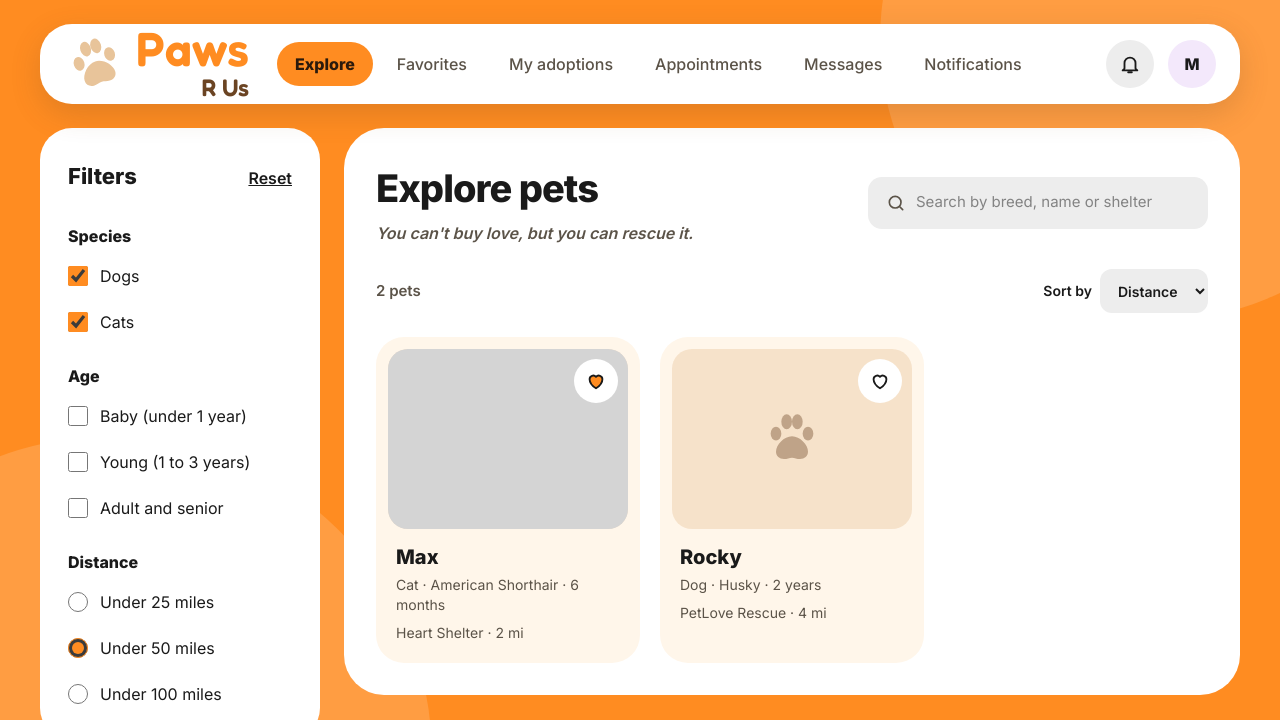
it: App routing › searches by name, breed or shelter
Type "husky" into the search field named "search pets" at (1053, 203), box [916,191,1190,214]
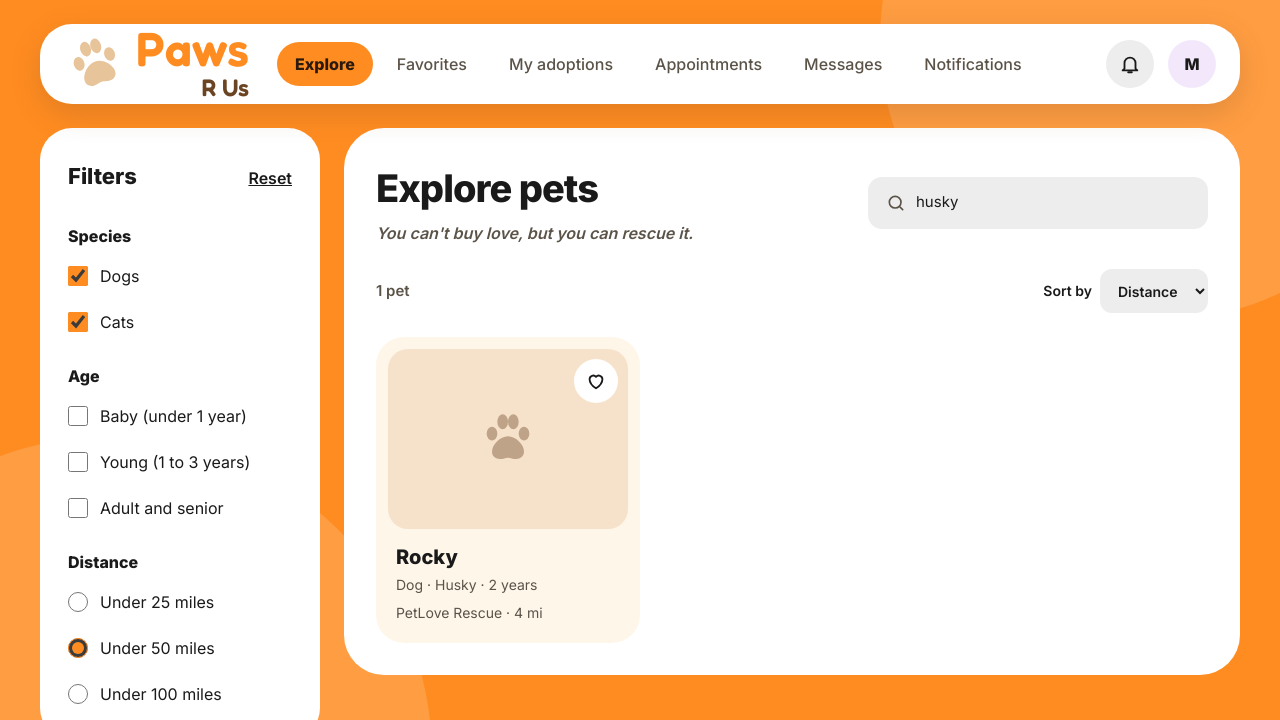
Expected: the text "PetLove Rescue · 4 mi" is shown, [396,604,543,621]
Now the text "1 pet" is shown, box [376,280,410,302]
